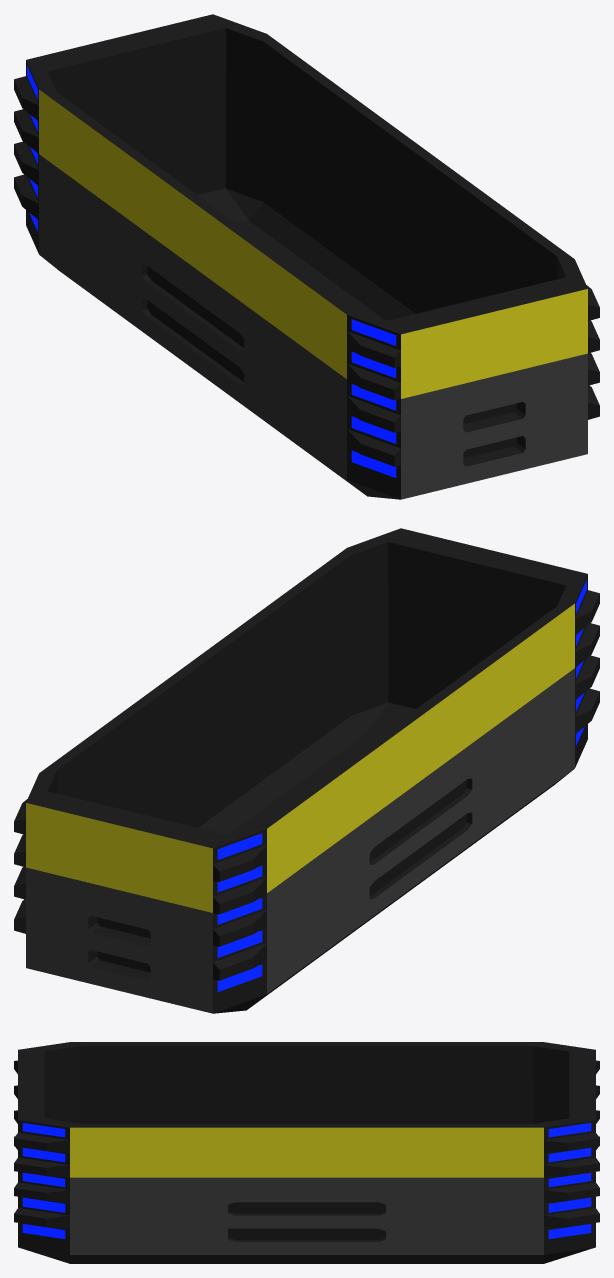
File: CajaPiezaModulo.fbx
3 renders of one model, top to bottom at view 1: azimuth 30°, elevation 25°; view 2: azimuth 150°, elevation 25°; view 3: azimuth 270°, elevation 25°, orthographic. The views are drawn at different scales.
Parts seen in each view (by area): view 1: Caja; view 2: Caja; view 3: Caja.
Part boxes in pixels (x1,y1,x2,y2): Caja: [14, 14, 599, 499]; Caja: [14, 528, 599, 1013]; Caja: [14, 1042, 599, 1263].
Bounding box in the file's own units: 203 × 157 × 578.
